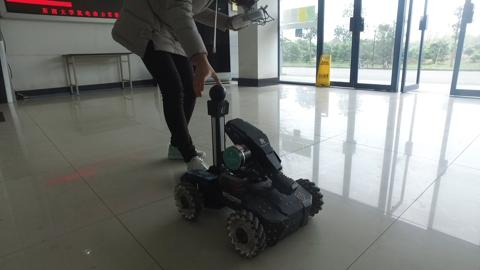chariot: (148, 81, 333, 260)
